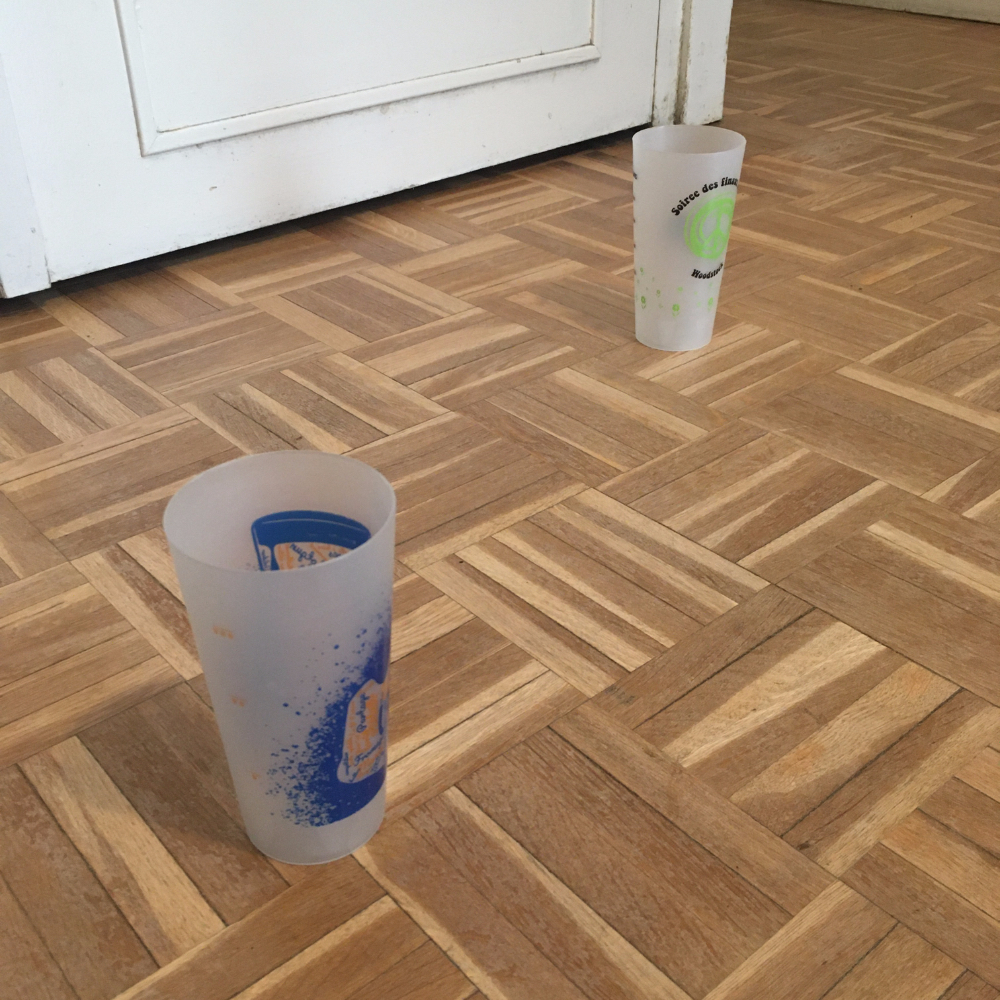ecocup: (164, 450, 396, 866), (632, 124, 748, 353)
